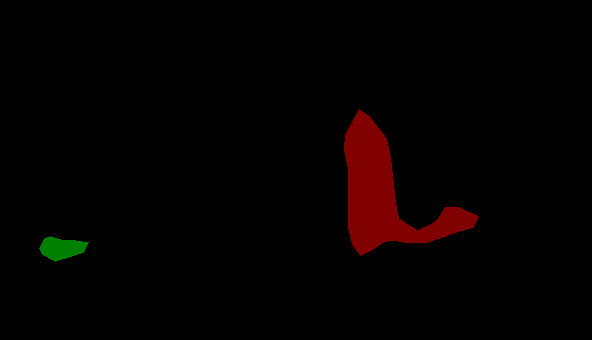fire: (344, 109, 478, 255), (39, 236, 88, 261)
